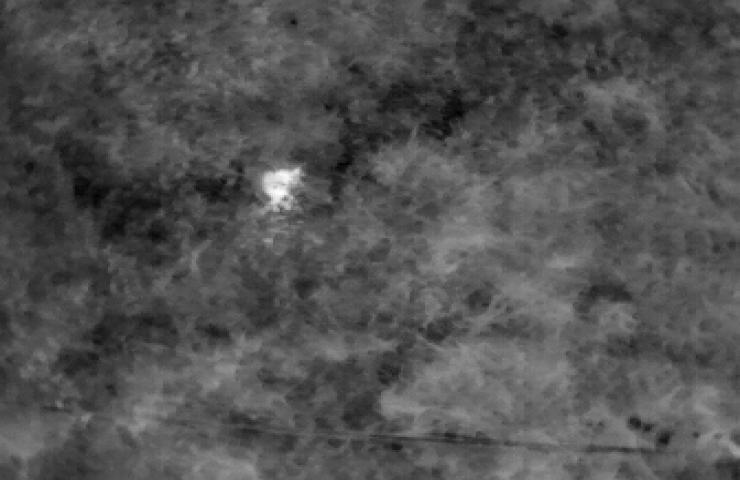landmines: (257, 165, 309, 216)
